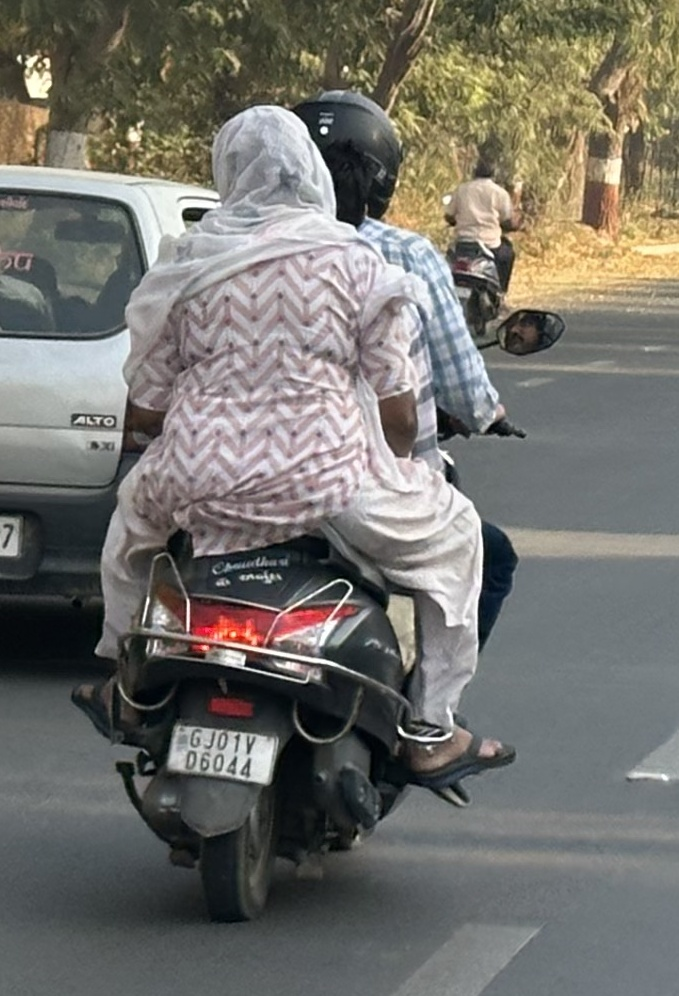BikeWithRider: (61, 78, 567, 933), (431, 149, 535, 347)
Helmet: (281, 83, 411, 227)
NoHelmet: (200, 99, 341, 233)
